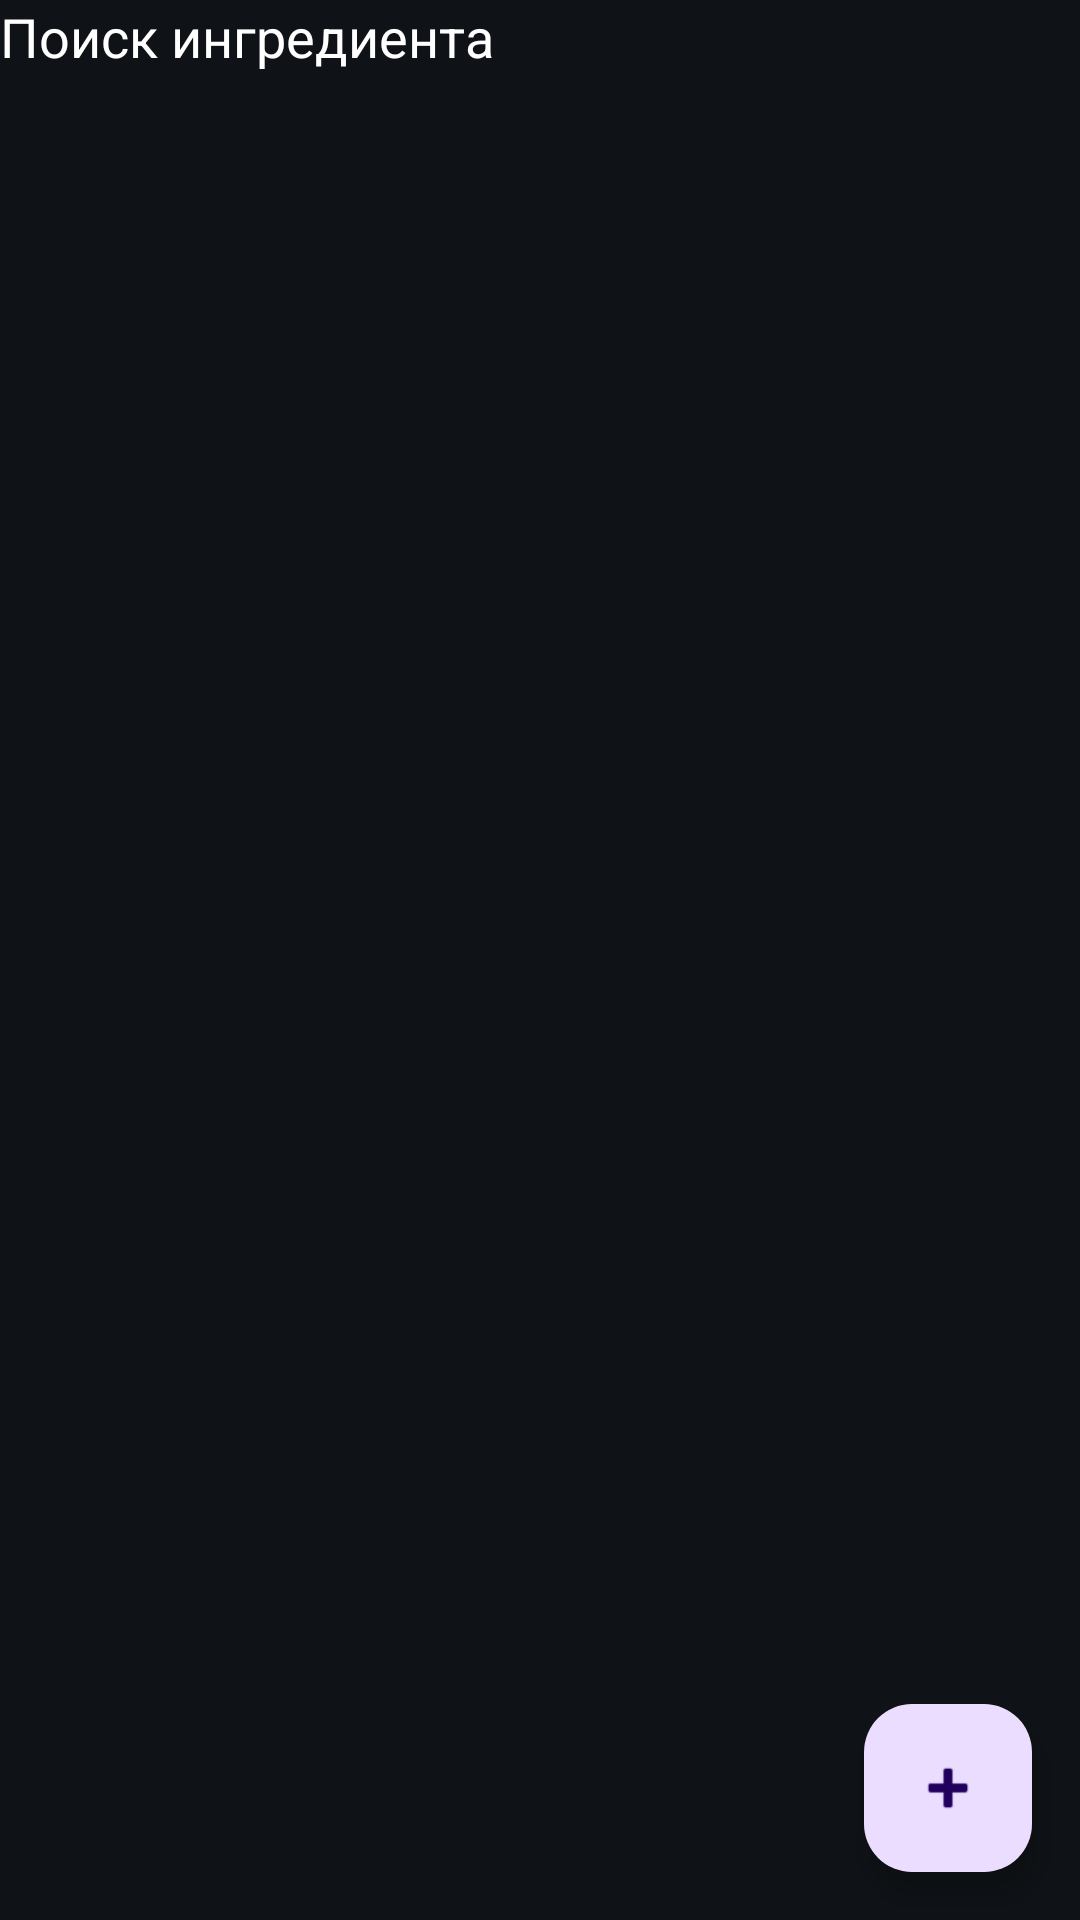

Locate icon controls on the screen. Image size 1080w x 1920h, boxes as (x1, y1, x2, y2).
Добавить: (864, 1704, 1032, 1872)
